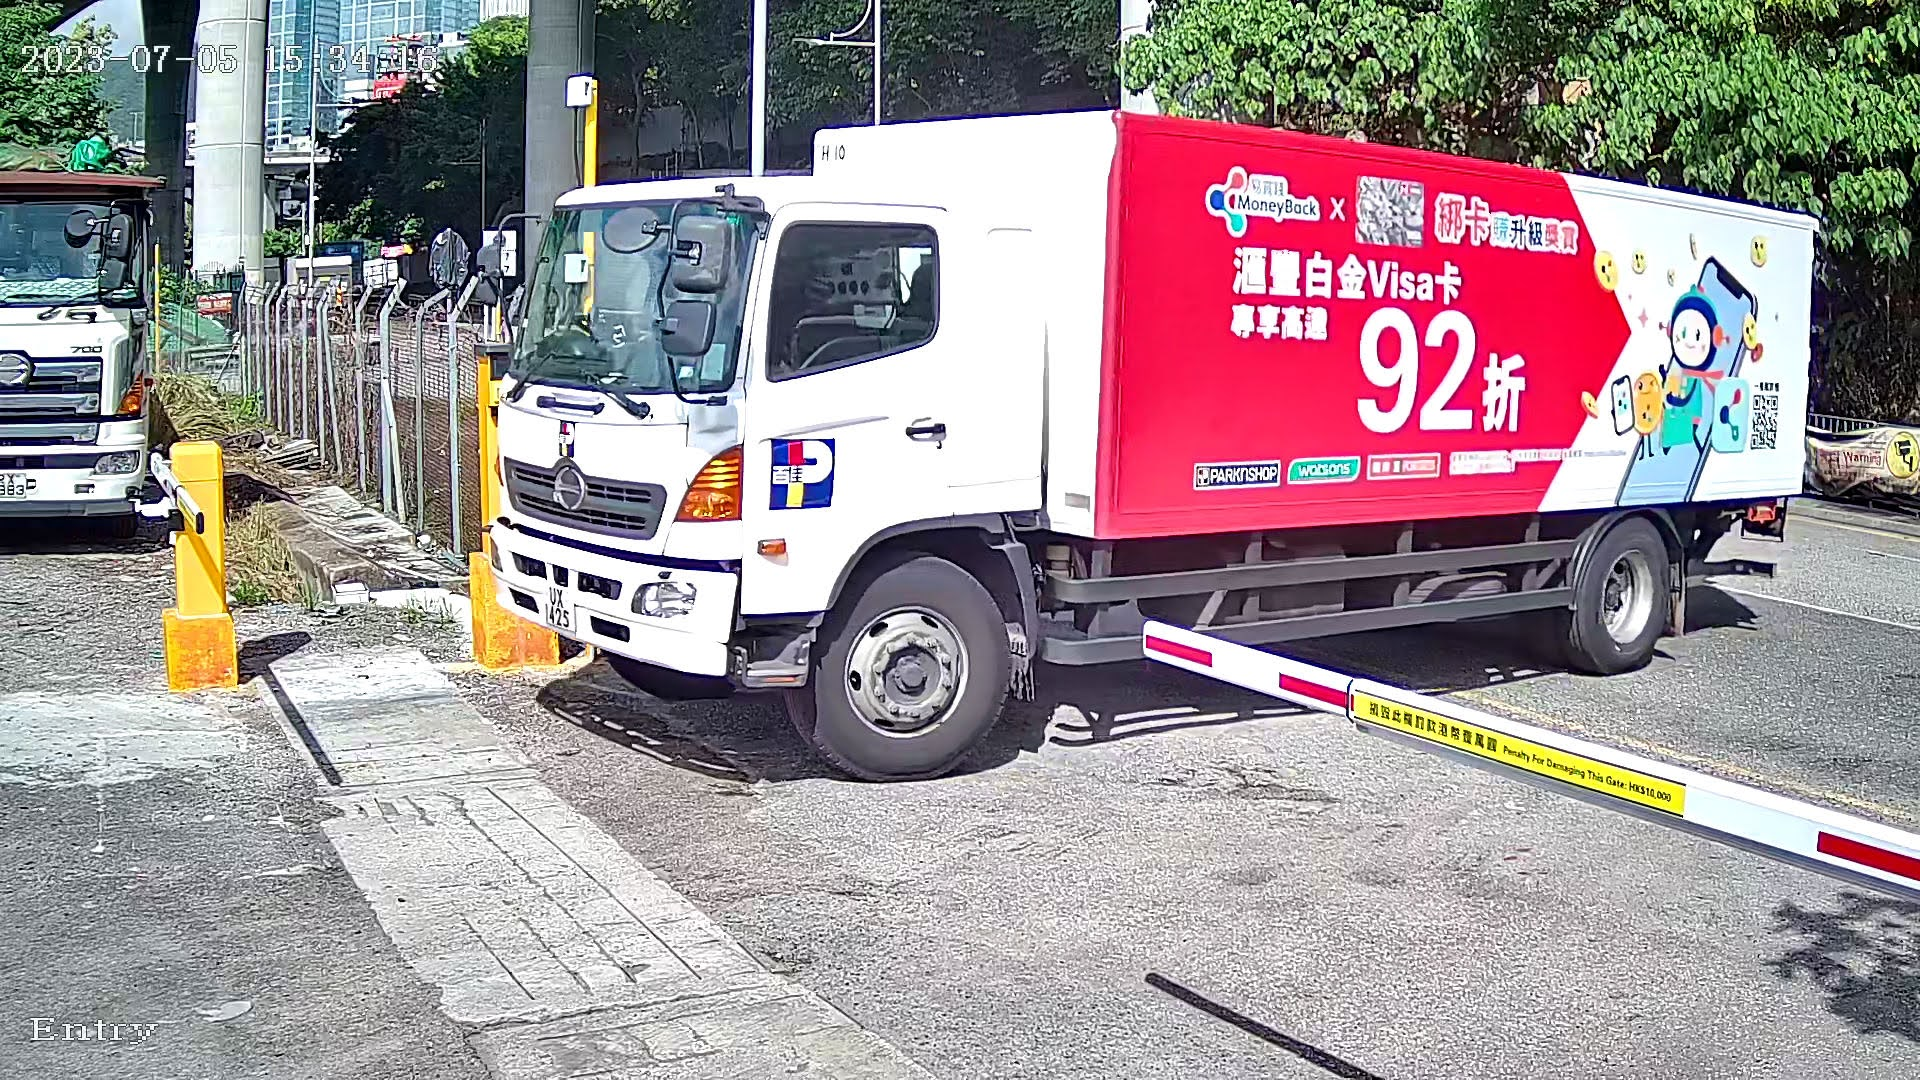truck_small: (439, 40, 1874, 802)
